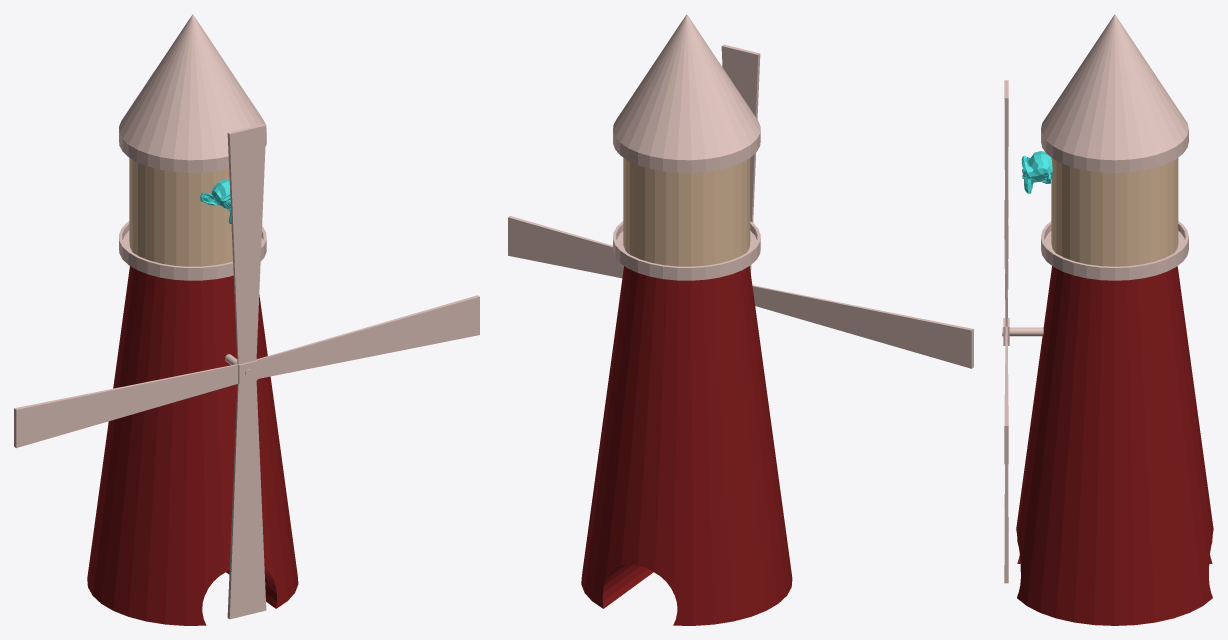
File: WindMill.fbx
The picture shows the model from 3 angles, left to right: view 1: azimuth 30°, elevation 25°; view 2: azimuth 150°, elevation 25°; view 3: azimuth 270°, elevation 25°; orthographic projection.
Visible parts, largest first — view 1: Windmill Building, Windmill Wings; view 2: Windmill Building, Windmill Wings; view 3: Windmill Building, Windmill Wings.
Boxes of the visible parts, x1,y1,x2,y2 form: Windmill Building: (87,14,298,625); Windmill Wings: (14,124,479,619); Windmill Building: (581,14,792,625); Windmill Wings: (508,44,973,368); Windmill Building: (1016,14,1213,625); Windmill Wings: (1002,80,1043,583).
Bounding box in the file's own units: 2530 × 2958 × 998.
